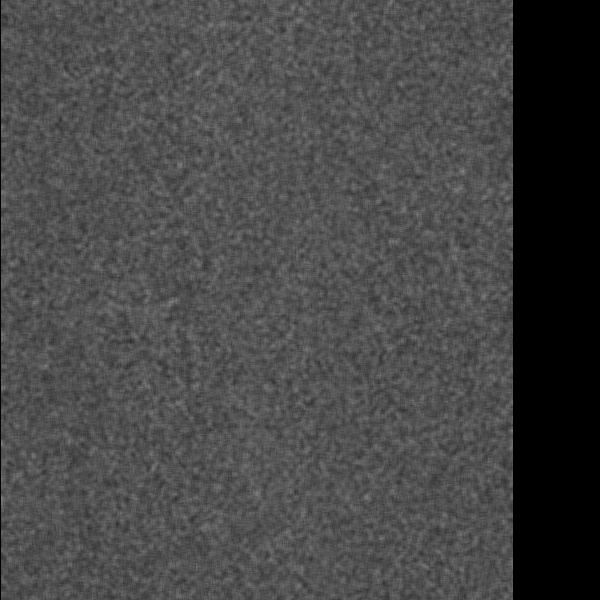spark: (294, 403, 328, 464), (120, 153, 148, 180)
